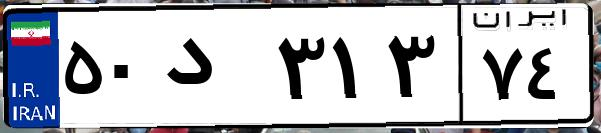0: (110, 28, 158, 98)
1: (330, 28, 385, 110)
3: (270, 28, 330, 110), (385, 28, 445, 110)
4: (525, 38, 570, 115)
5: (57, 26, 110, 100)
7: (475, 38, 525, 113)
د: (158, 20, 270, 120)
